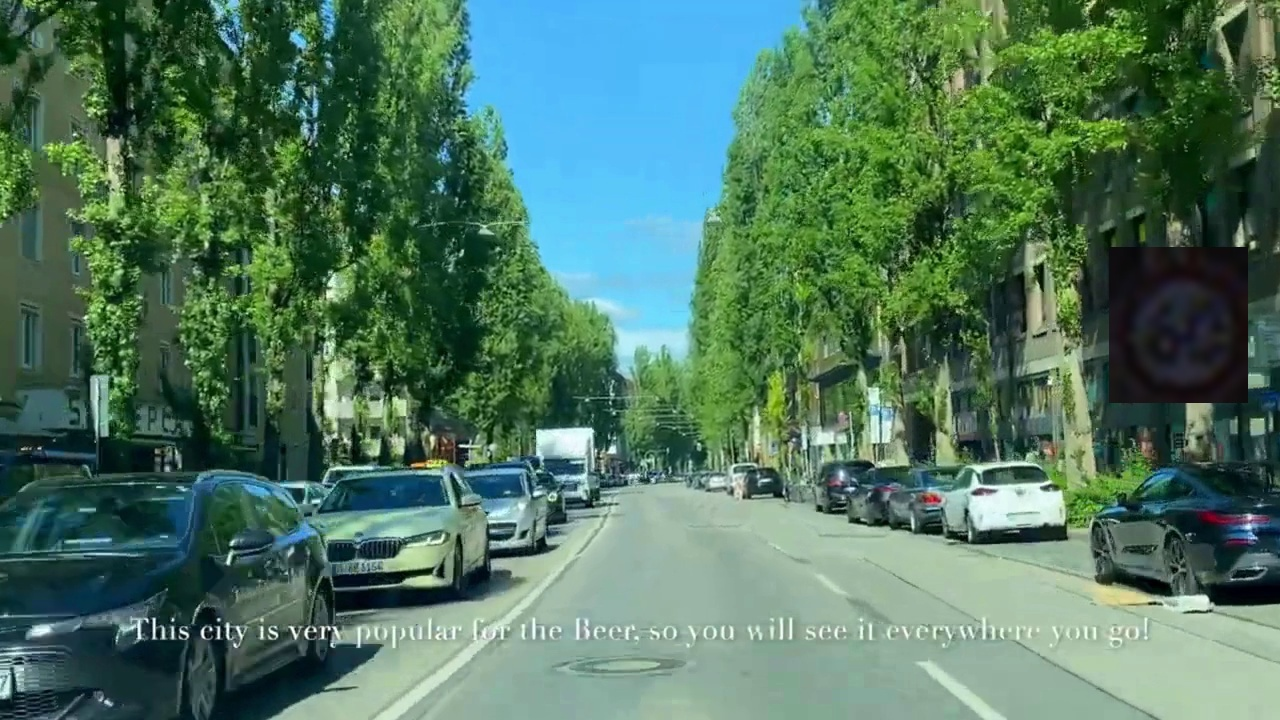Speed 60: (1109, 247, 1248, 403)
